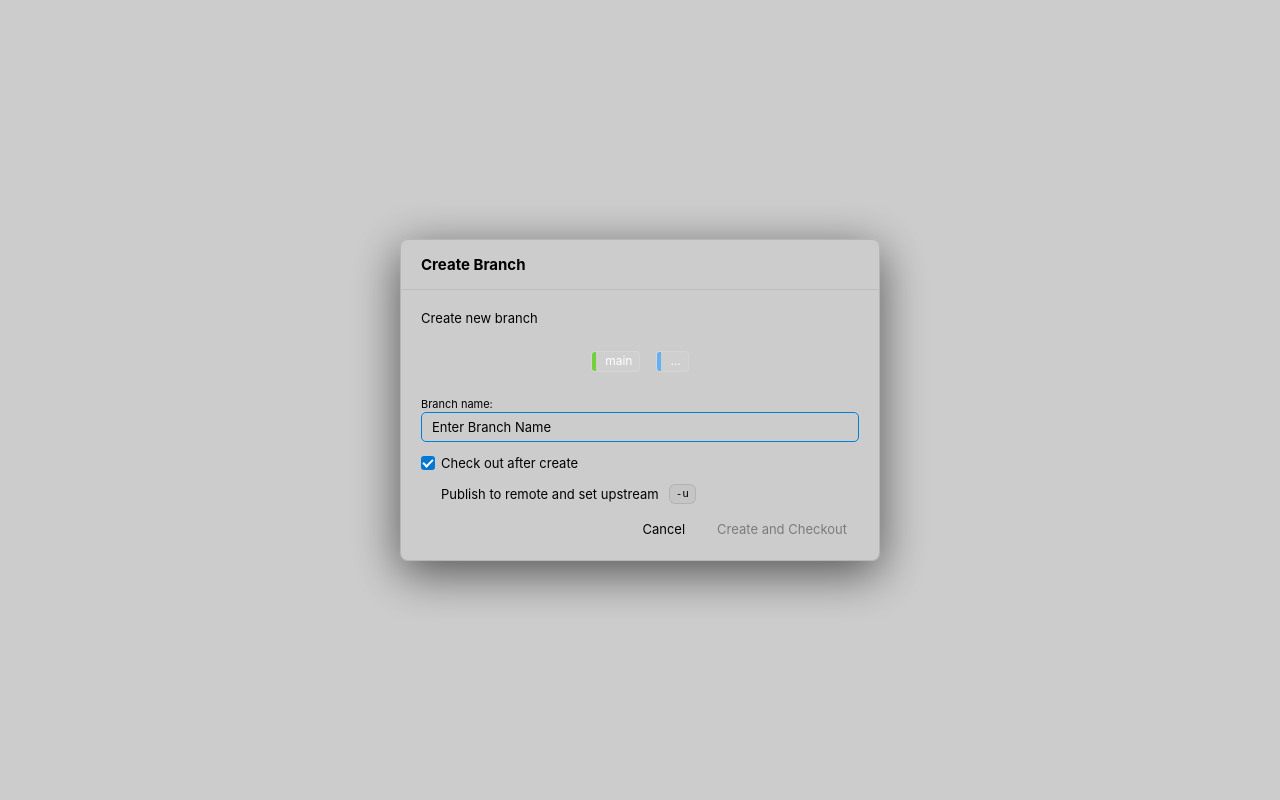
Test: CreateBranchModal › enables the primary button when a valid name is typed
Type "feature/login" into the field with id "create-branch-name" at (640, 427), box 421,412 -> 859,442
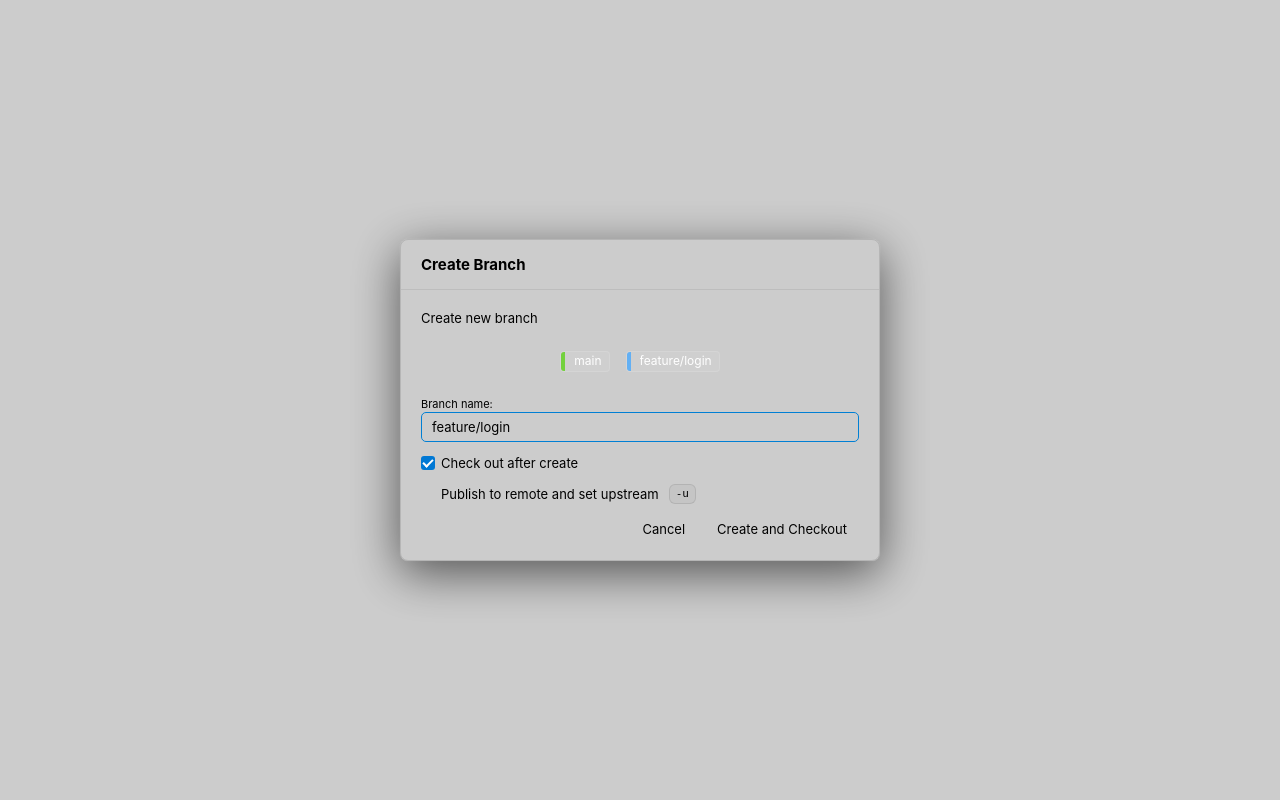
Check: the button "Create and Checkout" is enabled, box 705,516 -> 859,542
